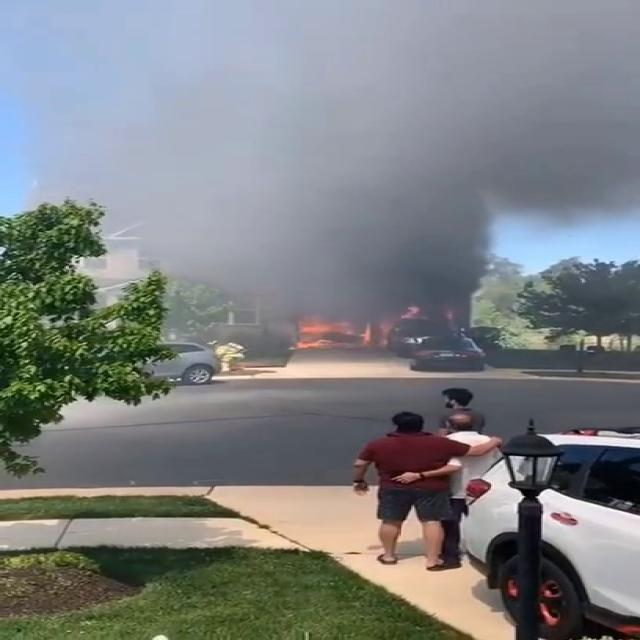Fire: (272, 314, 378, 356)
Smoke: (94, 0, 637, 332)
